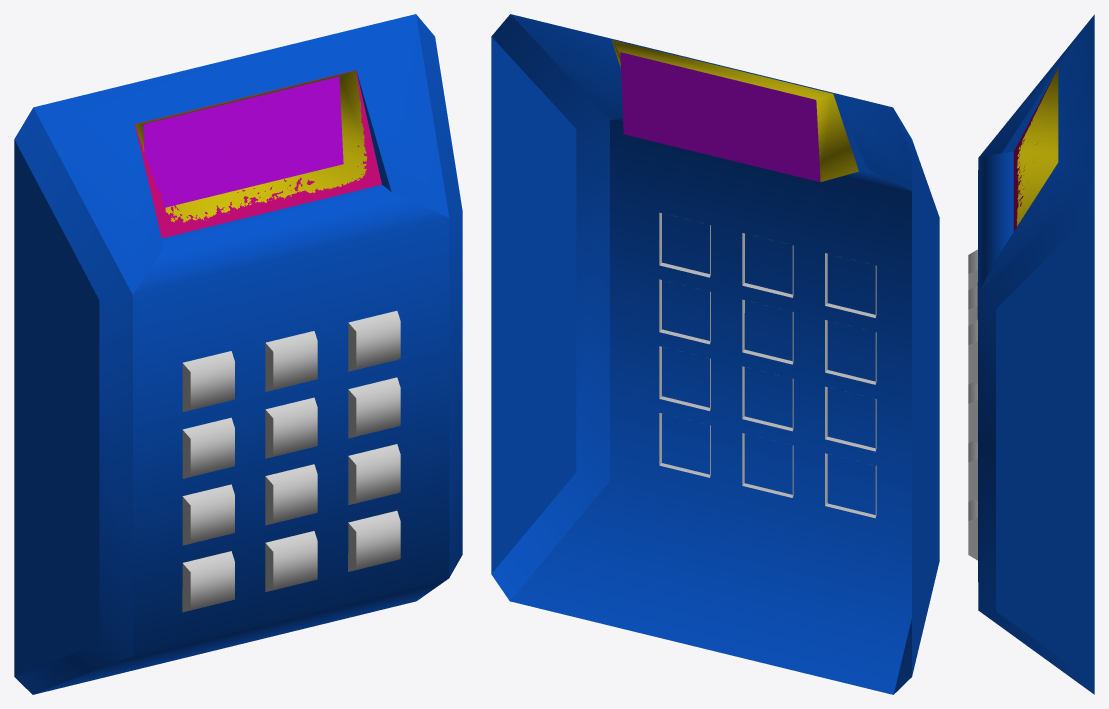
Rendered from Terminal.fbx.
3 views of the same model, side by side, from view 1: azimuth 30°, elevation 25°; view 2: azimuth 150°, elevation 25°; view 3: azimuth 270°, elevation 25° (orthographic). The views are drawn at different scales.
Visible parts, largest first — view 1: TerminalMain, Button.007, Button.back, Button.004, Button.000, Button.001, Button.enter, Button.008, Button.002, Button.005, Button.009, Button.006 (+1 smaller); view 2: TerminalMain; view 3: TerminalMain, Button.003, Button.009, Button.enter, Button.006, Button.001, Button.002.
Part boxes in pixels (box(x1,y1,x2,y2)): TerminalMain: box(14, 14, 462, 694); Button.007: box(182, 484, 234, 545); Button.back: box(182, 551, 234, 612); Button.004: box(182, 417, 234, 478); Button.000: box(265, 531, 317, 591); Button.001: box(182, 351, 234, 411); Button.enter: box(348, 510, 400, 571); Button.008: box(265, 464, 317, 525); Button.002: box(265, 331, 317, 391); Button.005: box(265, 397, 317, 458); Button.009: box(348, 444, 400, 504); Button.006: box(348, 377, 400, 438); TerminalMain: box(491, 14, 939, 694); TerminalMain: box(977, 14, 1094, 694); Button.003: box(968, 320, 977, 384); Button.009: box(968, 440, 977, 501); Button.enter: box(968, 499, 977, 560); Button.006: box(968, 382, 977, 442); Button.001: box(968, 249, 977, 290); Button.002: box(968, 285, 977, 325).
Size of the model in its own units: 22.1 by 29.49 by 6.55.
